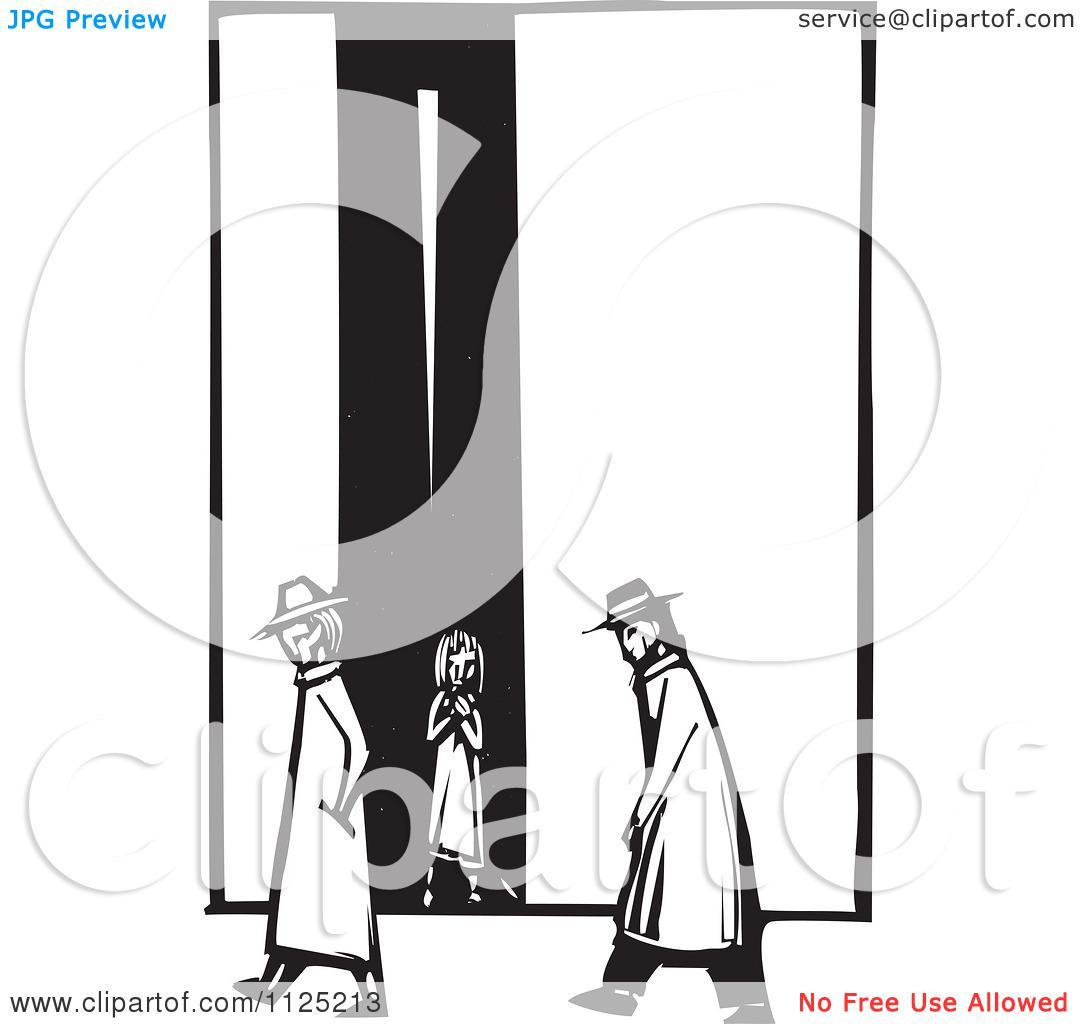person: (561, 576, 784, 1019), (245, 573, 393, 1019), (415, 626, 495, 904)
